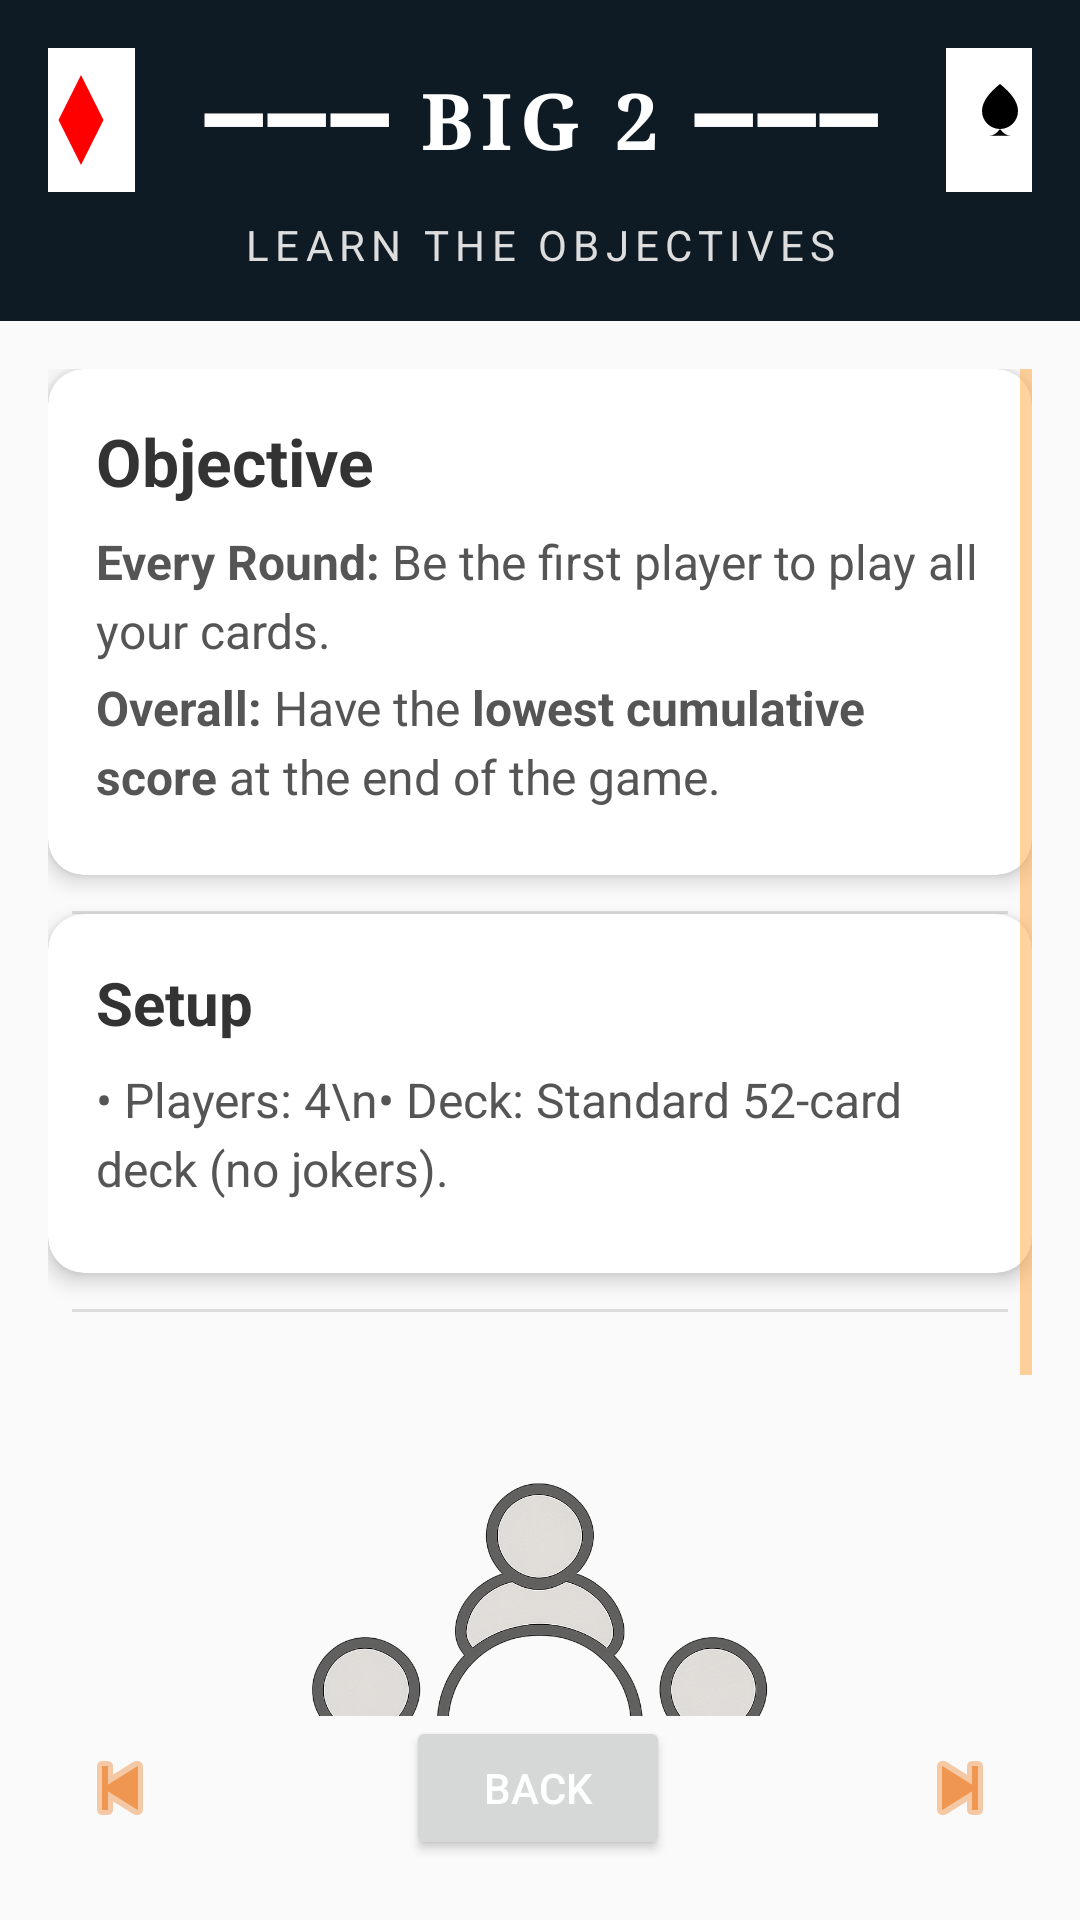

Locate icon controls on the screen. Image size 1080 × 1920, boxes as (x1, y1, x2, y2).
Next: (937, 1761, 983, 1815)
Previous: (97, 1761, 143, 1815)
